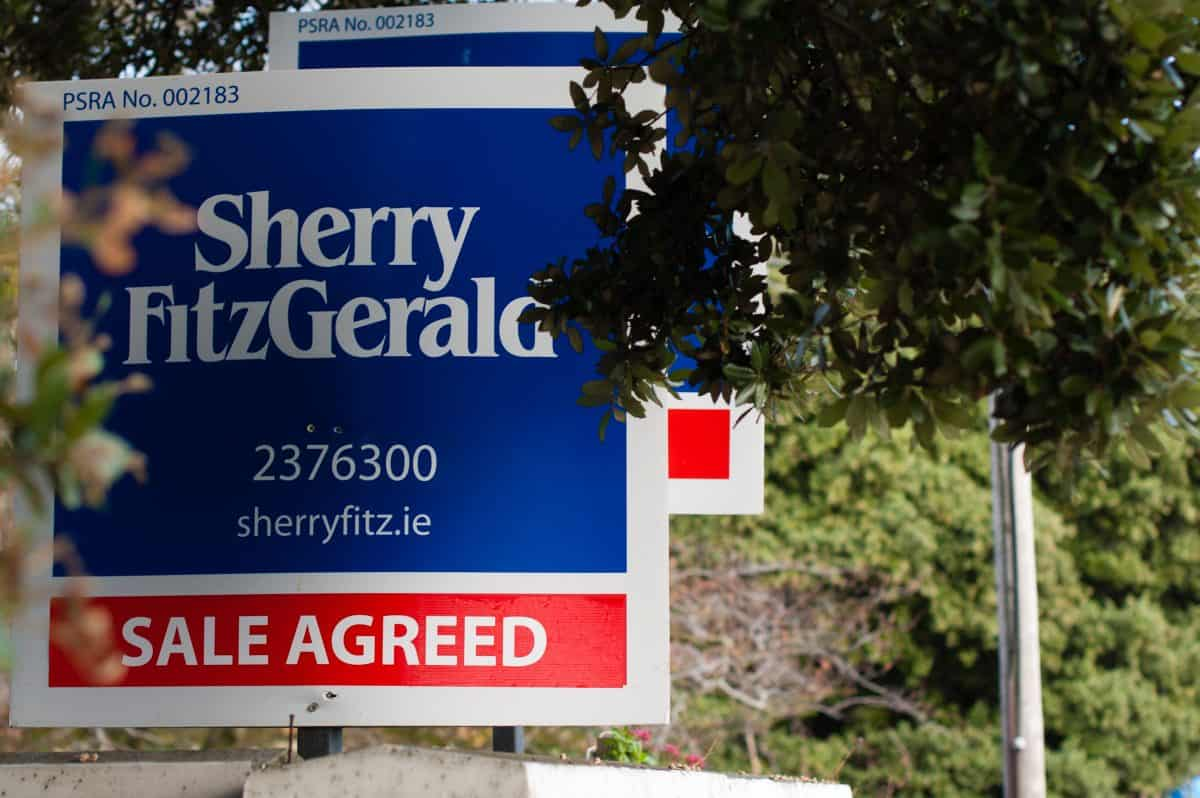property sign: (8, 63, 685, 739)
